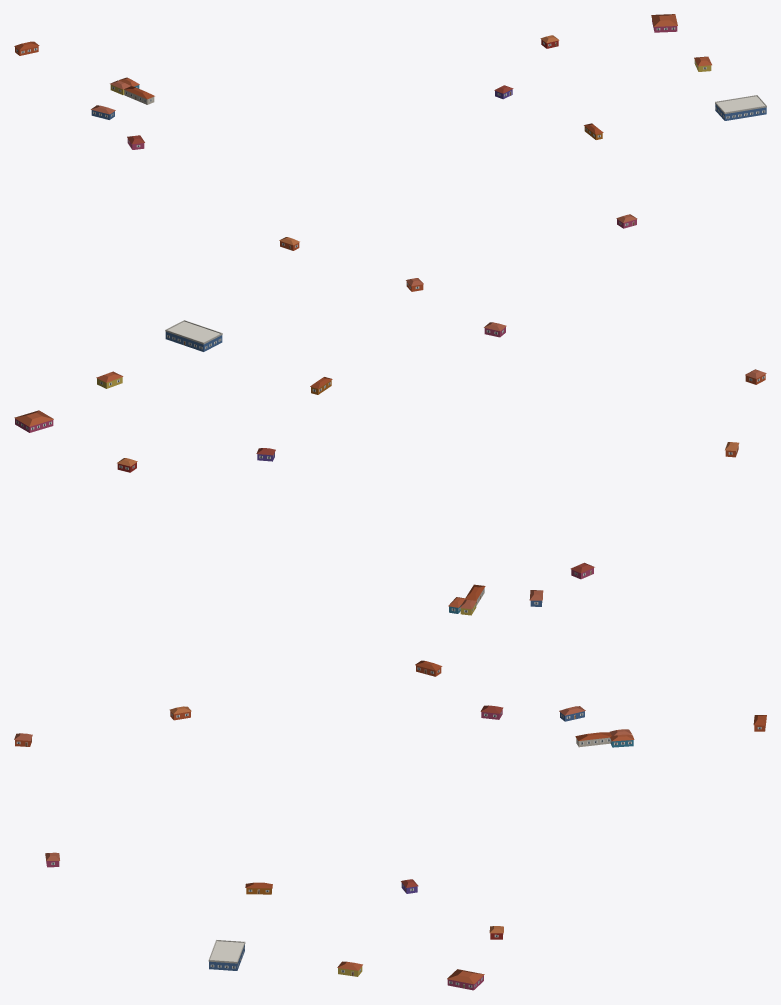
Rendered from msb_noord_m17_m17.glb.
The picture shows the model from 3 angles, top to bottom: view 1: azimuth 30°, elevation 25°; view 2: azimuth 150°, elevation 25°; view 3: azimuth 270°, elevation 25°; orthographic projection. The views are drawn at different scales.
Visible parts, largest first — view 1: msb_noord_m17_m17_lod0; view 2: msb_noord_m17_m17_lod0; view 3: msb_noord_m17_m17_lod0.
Part boxes in pixels (x1,y1,x2,y2): msb_noord_m17_m17_lod0: (14, 14, 766, 291); msb_noord_m17_m17_lod0: (14, 320, 766, 676); msb_noord_m17_m17_lod0: (14, 705, 766, 990).
Size of what is drawn, in the model's own units: 324 by 10.42 by 366.
Materials: 3 (1 with a texture image).
